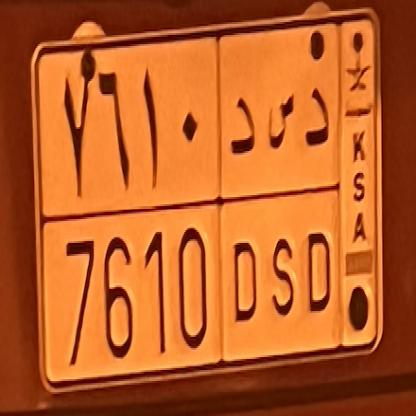english: (44, 192, 342, 368)
